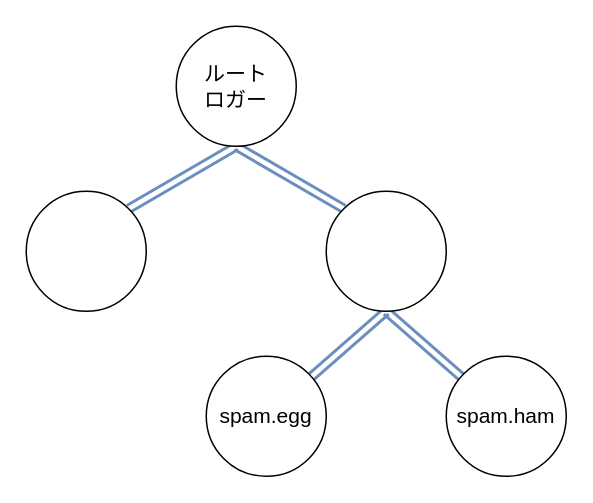
The diagram is 593 pixels wide and 503 high, and some of its shapes have lost their labels. The centre of each missing label's shape, as x and y in pixels:
"foo" belongs at point (85, 250).
"spam" belongs at point (385, 250).
